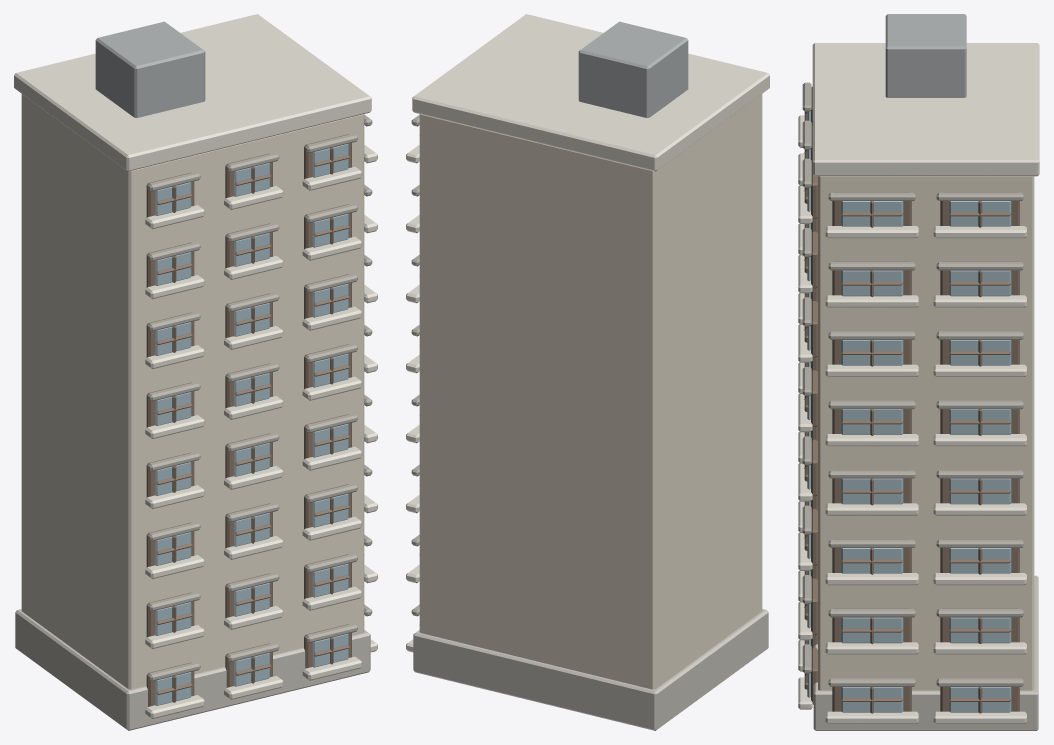
The model's file is apartment_b.glb.
3 views of the same model, side by side, from view 1: azimuth 30°, elevation 25°; view 2: azimuth 150°, elevation 25°; view 3: azimuth 270°, elevation 25° (orthographic).
Visible parts, largest first — view 1: wall, parapet, skirt, roofbox, wglass.003, wglass, wglass.006, wglass.008, wglass.009, wglass.005, wglass.011, wglass.012 (+40 smaller); view 2: wall, parapet, skirt, roofbox; view 3: wall, parapet, roofbox, skirt, wglass.030, wglass.031, wglass.026, wglass.027, wglass.037, wglass.036, wglass.028, wglass.038 (+56 smaller).
Boxes of the visible parts, left/top/right/bottom form: wall: left=21, top=94, right=364, bottom=689; parapet: left=14, top=14, right=371, bottom=171; skirt: left=15, top=609, right=370, bottom=730; roofbox: left=95, top=21, right=205, bottom=117; wglass.003: left=155, top=602, right=191, bottom=635; wglass: left=155, top=672, right=191, bottom=705; wglass.006: left=155, top=532, right=191, bottom=565; wglass.008: left=312, top=493, right=348, bottom=527; wglass.009: left=155, top=462, right=191, bottom=495; wglass.005: left=312, top=563, right=348, bottom=597; wglass.011: left=312, top=423, right=348, bottom=457; wglass.012: left=155, top=392, right=191, bottom=425; wall: left=419, top=94, right=762, bottom=689; parapet: left=412, top=14, right=769, bottom=171; skirt: left=413, top=609, right=768, bottom=730; roofbox: left=578, top=21, right=688, bottom=117; wall: left=818, top=176, right=1034, bottom=690; parapet: left=812, top=43, right=1039, bottom=176; roofbox: left=885, top=14, right=966, bottom=97; skirt: left=813, top=575, right=1038, bottom=730; wglass.030: left=841, top=478, right=903, bottom=504; wglass.031: left=949, top=478, right=1011, bottom=504; wglass.026: left=841, top=617, right=903, bottom=643; wglass.027: left=949, top=617, right=1011, bottom=643; wglass.037: left=949, top=270, right=1011, bottom=296; wglass.036: left=841, top=270, right=903, bottom=296; wglass.028: left=841, top=548, right=903, bottom=573; wglass.038: left=841, top=201, right=903, bottom=226.
Size of the model in its own units: 1.64 by 3.81 by 1.34.
